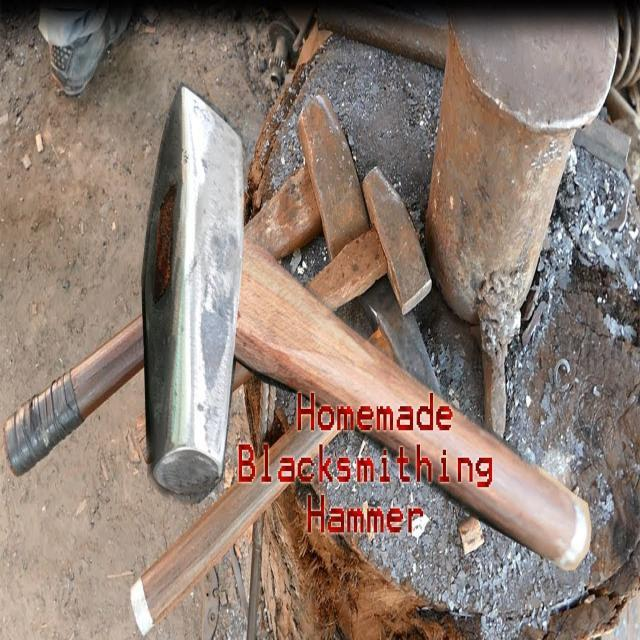hammer: (138, 75, 597, 598), (1, 88, 373, 489), (127, 274, 445, 638), (178, 154, 432, 422)
